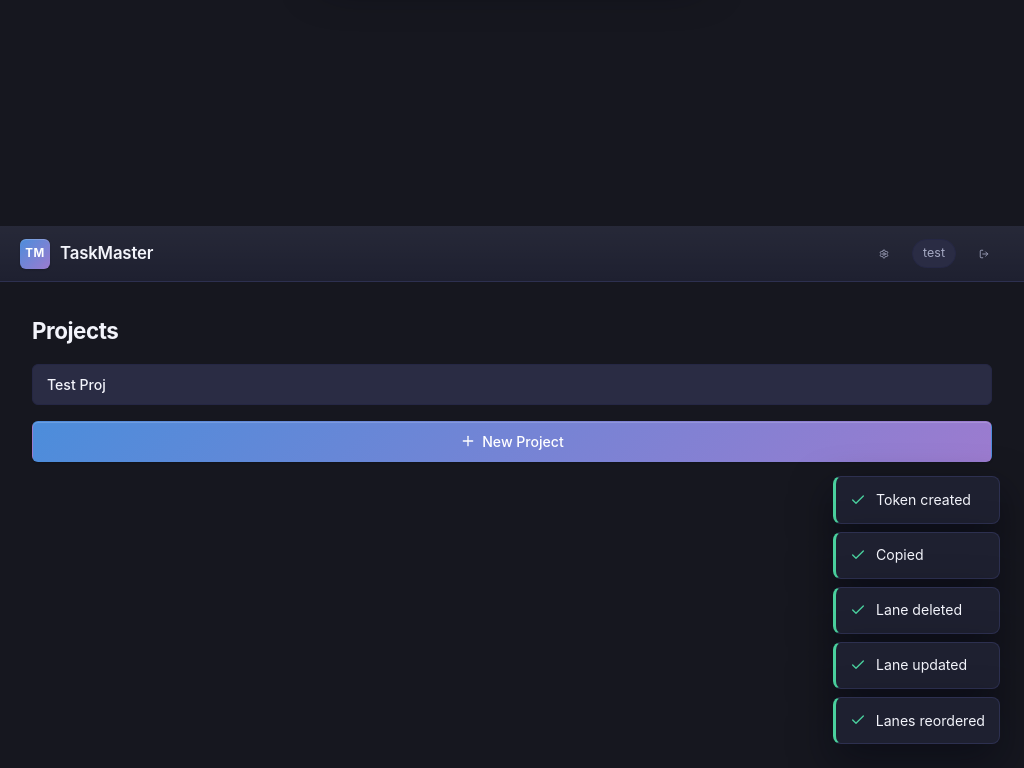
Test case: App › lane drag over another lane sends reorder with resolved lane order
(page scrolled)
Step 1. Click the button "Test Proj" → (76, 384), box [32, 364, 992, 405]
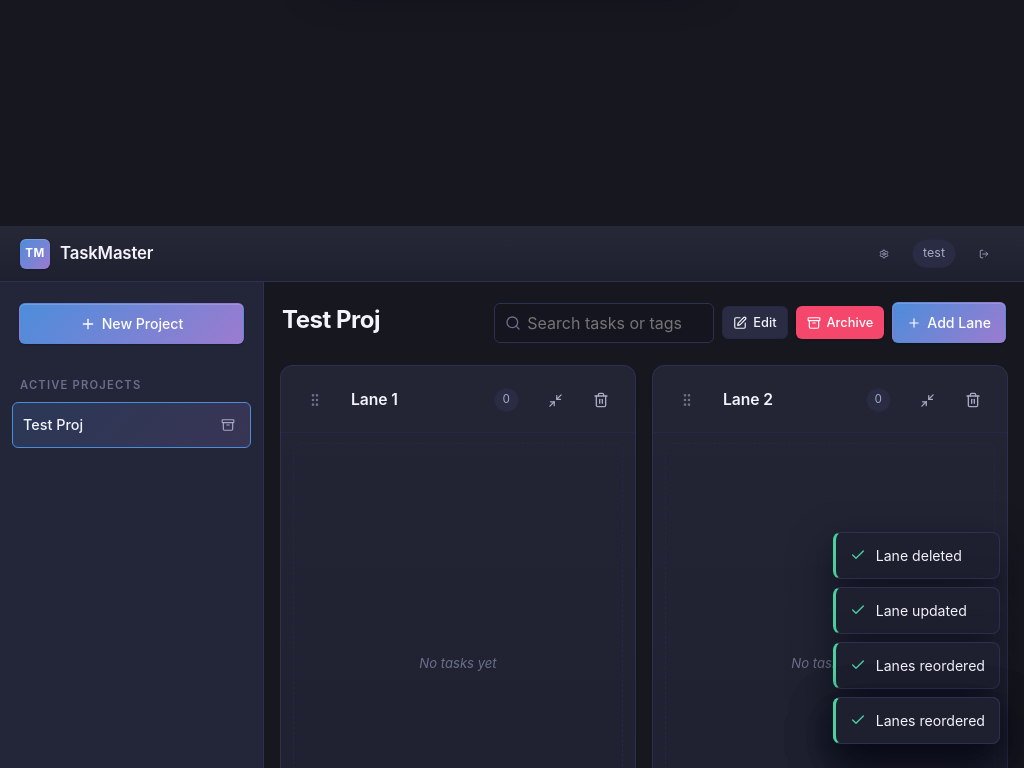
Expected: the text "Lane 1" is shown, [351, 390, 398, 409]
Expected: the text "Lane 2" is shown, [723, 390, 773, 409]
